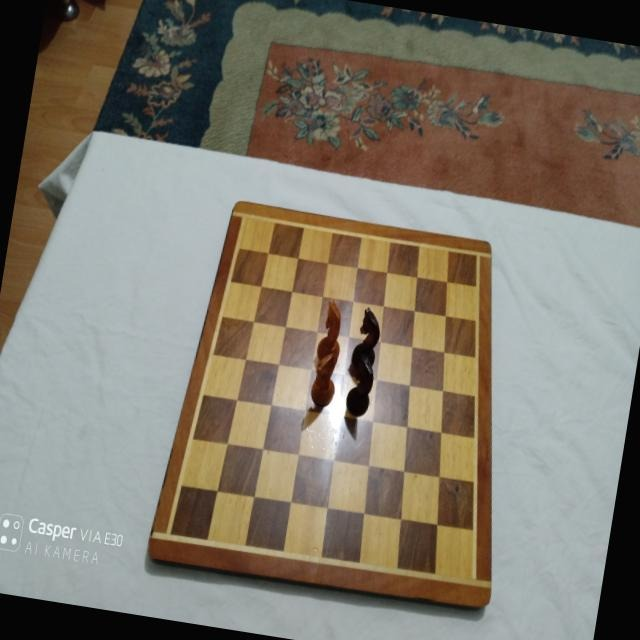black-knight: (342, 350, 377, 418), (350, 304, 384, 371)
white-knight: (314, 298, 348, 366), (309, 349, 341, 407)
